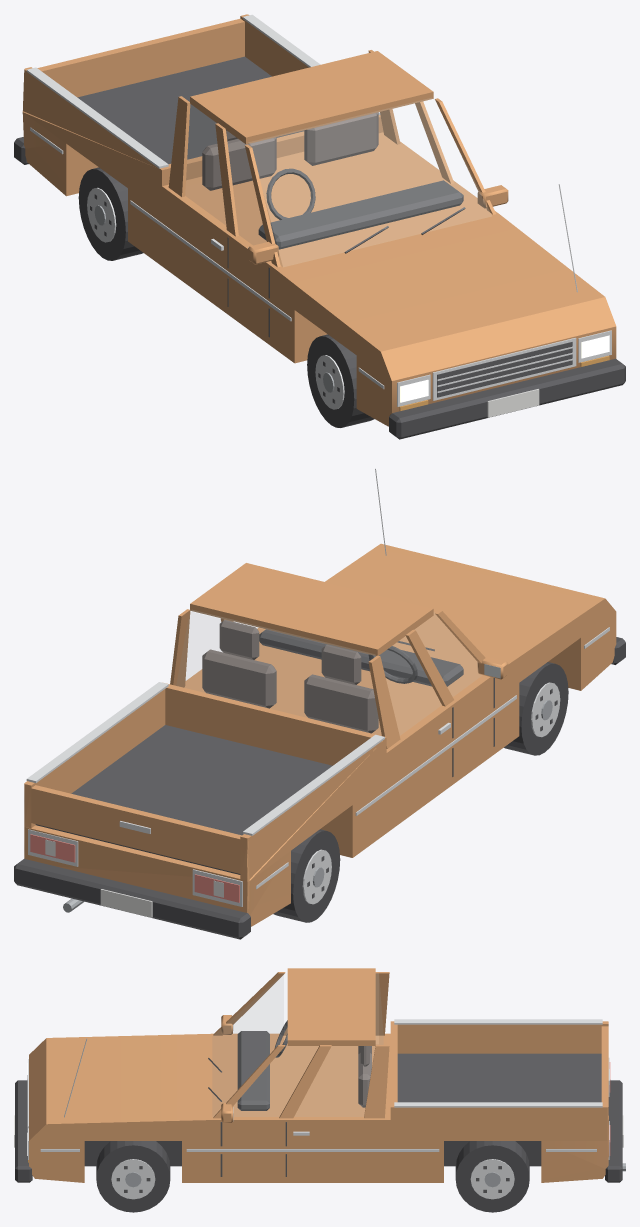
Rendered from car_pickup_o_svc.glb.
3 renders of one model, top to bottom at view 1: azimuth 30°, elevation 25°; view 2: azimuth 150°, elevation 25°; view 3: azimuth 270°, elevation 25°, orthographic. The views are drawn at different scales.
Visible parts, largest first — view 1: car_pickup_o_svc_car_o, car_pickup_o_svc_glass, car_pickup_o_svc_dark, car_pickup_o_svc_rubber, car_pickup_o_svc_chrome, car_pickup_o_svc_vinyl, car_pickup_o_svc_lamp_glass, car_pickup_o_svc_paint_w; view 2: car_pickup_o_svc_car_o, car_pickup_o_svc_glass, car_pickup_o_svc_dark, car_pickup_o_svc_rubber, car_pickup_o_svc_vinyl, car_pickup_o_svc_chrome, car_pickup_o_svc_neon_r, car_pickup_o_svc_paint_w; view 3: car_pickup_o_svc_car_o, car_pickup_o_svc_dark, car_pickup_o_svc_glass, car_pickup_o_svc_rubber, car_pickup_o_svc_chrome, car_pickup_o_svc_vinyl, car_pickup_o_svc_steel.
Boxes of the visible parts, x1,y1,x2,y2 form: car_pickup_o_svc_car_o: (22,14,616,426); car_pickup_o_svc_glass: (186,98,490,266); car_pickup_o_svc_dark: (77,56,572,403); car_pickup_o_svc_rubber: (14,137,625,439); car_pickup_o_svc_chrome: (26,14,611,409); car_pickup_o_svc_vinyl: (202,112,378,190); car_pickup_o_svc_lamp_glass: (400,335,609,402); car_pickup_o_svc_paint_w: (487,389,539,417); car_pickup_o_svc_car_o: (24,543,616,926); car_pickup_o_svc_glass: (177,610,481,734); car_pickup_o_svc_dark: (35,629,557,898); car_pickup_o_svc_rubber: (14,637,625,939); car_pickup_o_svc_vinyl: (202,620,378,733); car_pickup_o_svc_chrome: (26,468,609,906); car_pickup_o_svc_neon_r: (30,834,239,902); car_pickup_o_svc_paint_w: (45,839,223,917); car_pickup_o_svc_car_o: (29,968,608,1182); car_pickup_o_svc_dark: (27,1020,601,1192); car_pickup_o_svc_glass: (213,974,382,1116); car_pickup_o_svc_rubber: (15,1080,622,1212); car_pickup_o_svc_chrome: (27,1019,609,1199); car_pickup_o_svc_vinyl: (358,1046,371,1107); car_pickup_o_svc_steel: (125,1163,625,1187).
Bounding box in the file's own units: 2 × 1.6 × 5.28.
